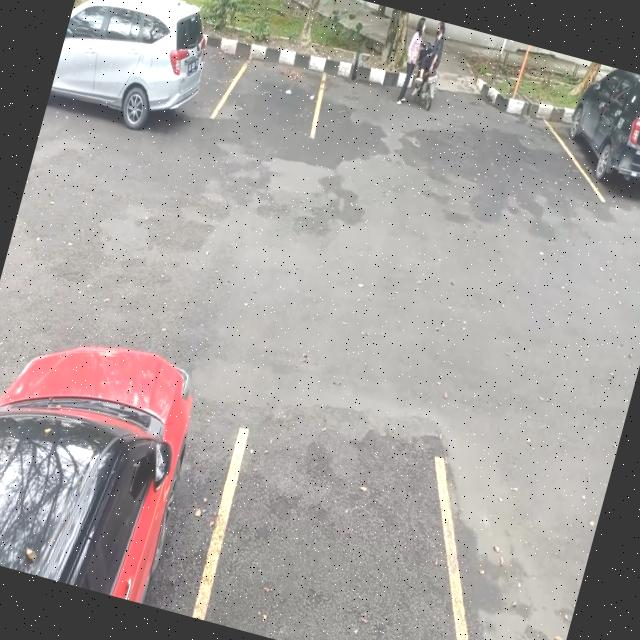empty: (191, 422, 493, 640), (215, 31, 332, 143)
occupied: (551, 70, 640, 219)
